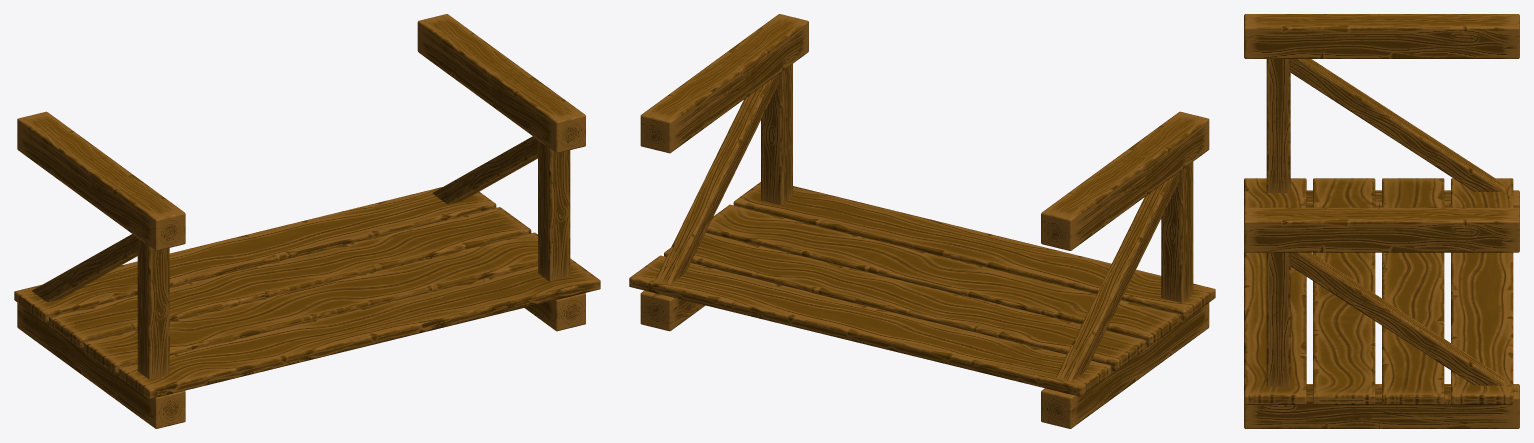
File: Puente_Modul_02.fbx
3 views of the same model, side by side, from view 1: azimuth 30°, elevation 25°; view 2: azimuth 150°, elevation 25°; view 3: azimuth 270°, elevation 25° (orthographic).
Visible parts, largest first — view 1: P_M_madera_02_LOD0; view 2: P_M_madera_02_LOD0; view 3: P_M_madera_02_LOD0.
Part boxes in pixels (x1,y1,x2,y2): P_M_madera_02_LOD0: (14,14,600,428); P_M_madera_02_LOD0: (629,14,1215,428); P_M_madera_02_LOD0: (1244,14,1519,428).
Size of what is drawn, in the model's own units: 150 by 66.52 by 80.
